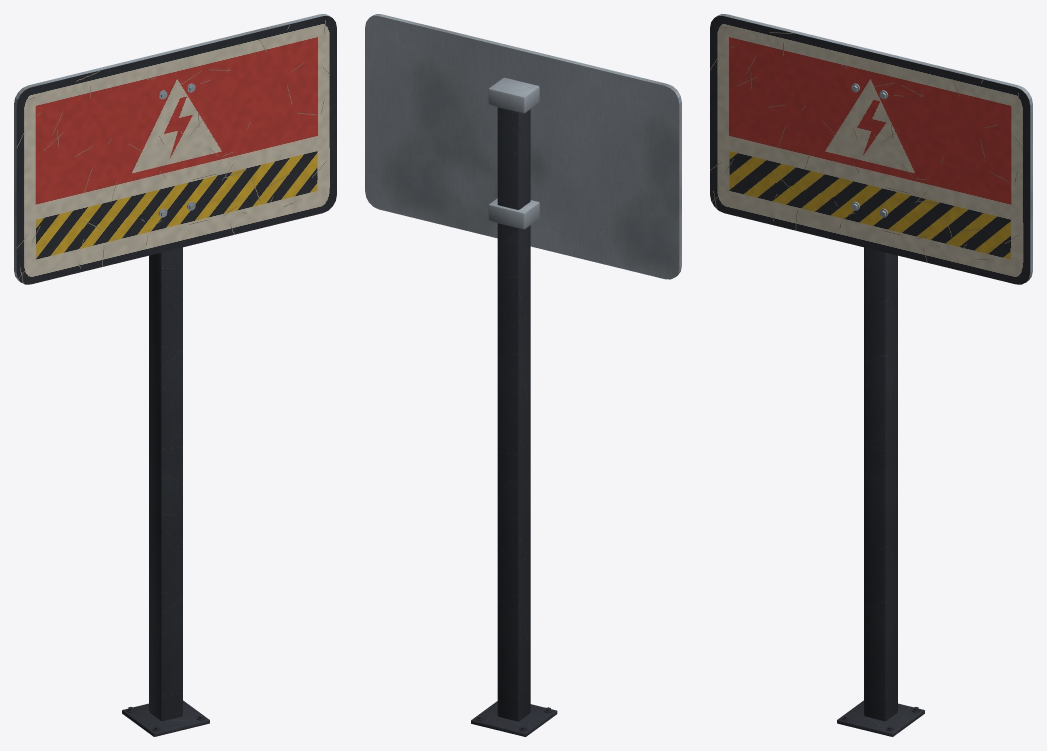
Rendered from danger_sign.glb.
3 renders of one model, left to right at view 1: azimuth 30°, elevation 25°; view 2: azimuth 150°, elevation 25°; view 3: azimuth 330°, elevation 25°, orthographic.
Parts seen in each view (by area): view 1: DangerSignMesh; view 2: DangerSignMesh; view 3: DangerSignMesh.
Part boxes in pixels (x1=…): DangerSignMesh: x1=14, y1=14, x2=336, y2=736; DangerSignMesh: x1=365, y1=14, x2=681, y2=736; DangerSignMesh: x1=710, y1=14, x2=1032, y2=736.
Bounding box in the file's own units: 0.68 × 1.37 × 0.12.
3 materials, 3 textured.
